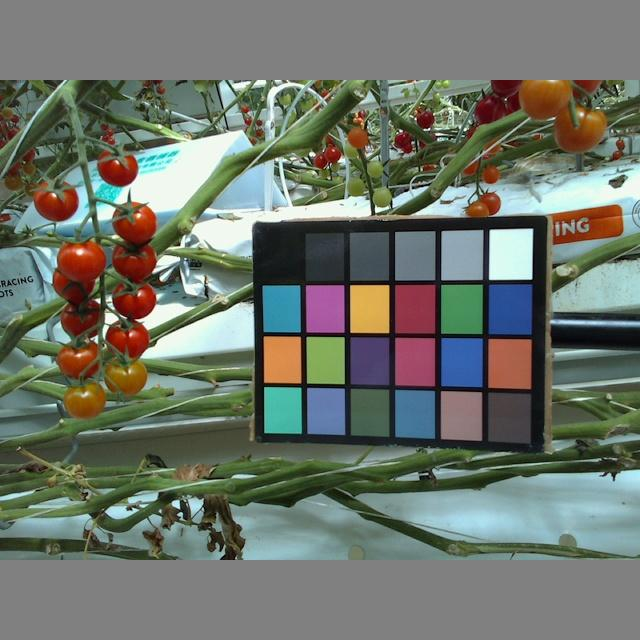green: (346, 174, 364, 197), (366, 159, 384, 177), (373, 188, 391, 203)
pink: (558, 101, 602, 156), (32, 178, 80, 221), (103, 352, 146, 399), (111, 278, 158, 319), (57, 244, 107, 281), (94, 150, 139, 191), (522, 81, 570, 119), (102, 317, 150, 354), (115, 242, 157, 282), (61, 381, 108, 416), (115, 202, 156, 242), (59, 341, 100, 379), (59, 304, 102, 338), (346, 126, 369, 151), (480, 192, 501, 213), (462, 199, 487, 215), (483, 163, 499, 183)
